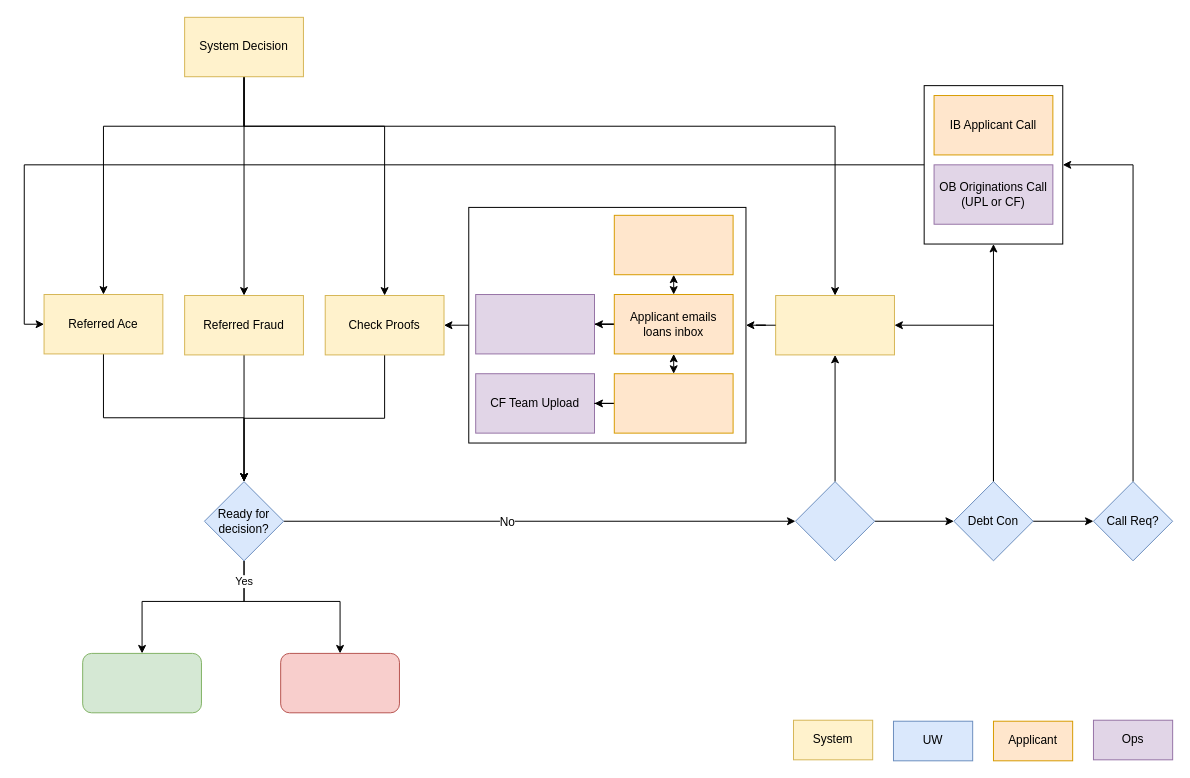
The diagram is 1190 pixels wide and 778 high, and some of its shapes have lost their labels. Here are the shapes that lost their labels. From the top down, the centre of each, then its label:
point 673,244: Applicant Uploads Documents
point 534,324: Document team works from VI
point 834,325: Awaiting Proofs
point 673,403: Applicant emails CF inbox
point 834,521: Further Docs
point 141,682: Accept
point 339,682: Decline
